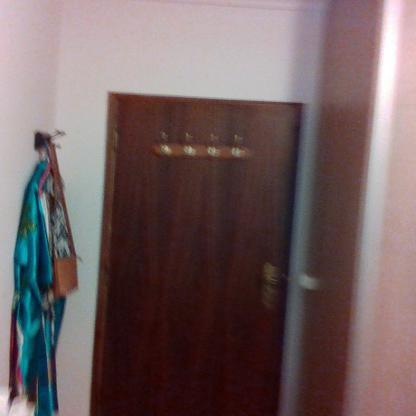door: (114, 95, 288, 415)
hinged: (106, 220, 115, 250), (110, 128, 121, 152)
knob: (266, 274, 284, 290)
